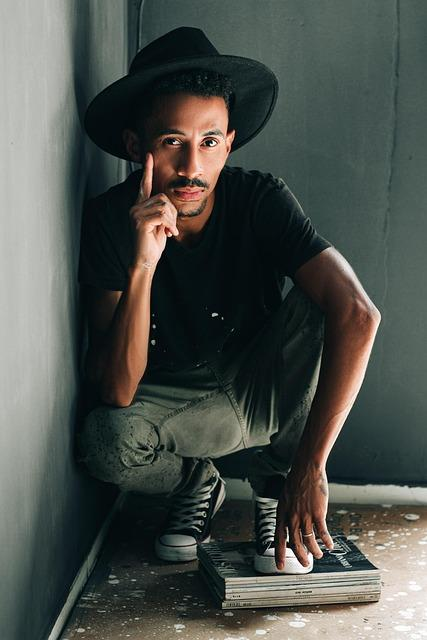Non_Gorille: (37, 25, 410, 627)
